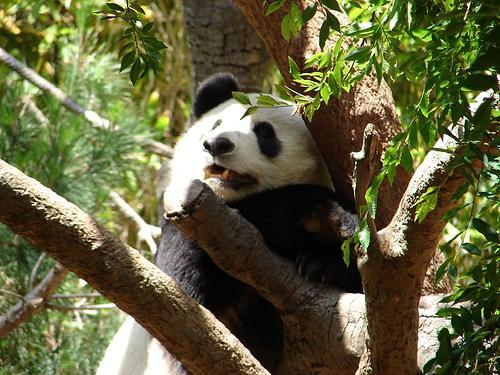panda: (155, 74, 361, 372), (98, 317, 189, 374)
